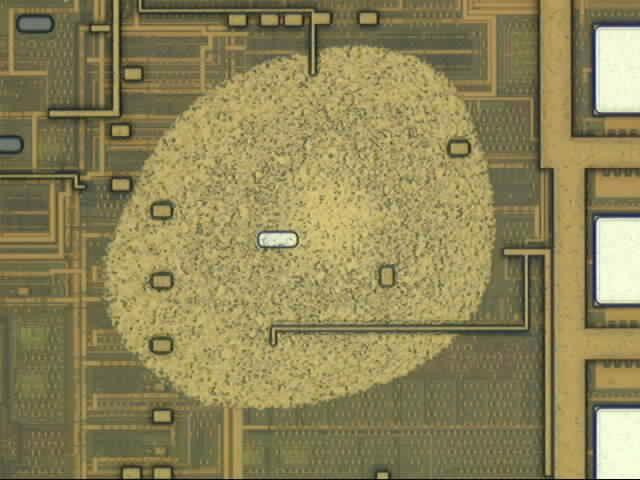BLOCK ETCH: (92, 36, 504, 419)
